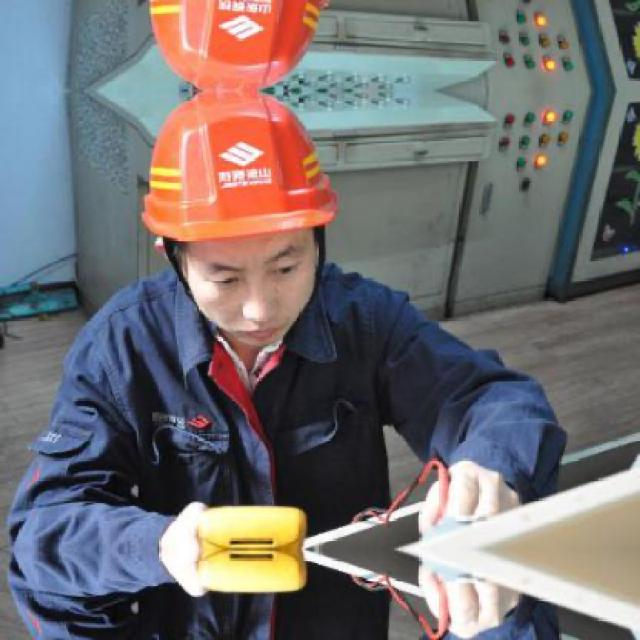safetyhelmet: (137, 89, 344, 353)
